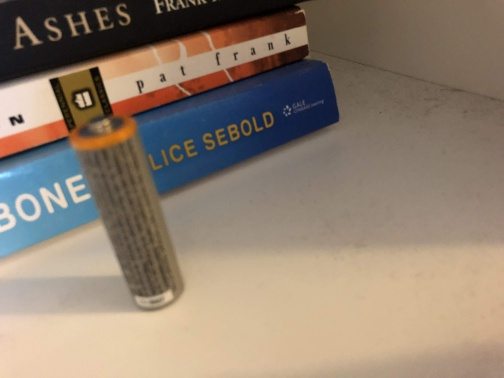battery: (66, 111, 189, 314)
